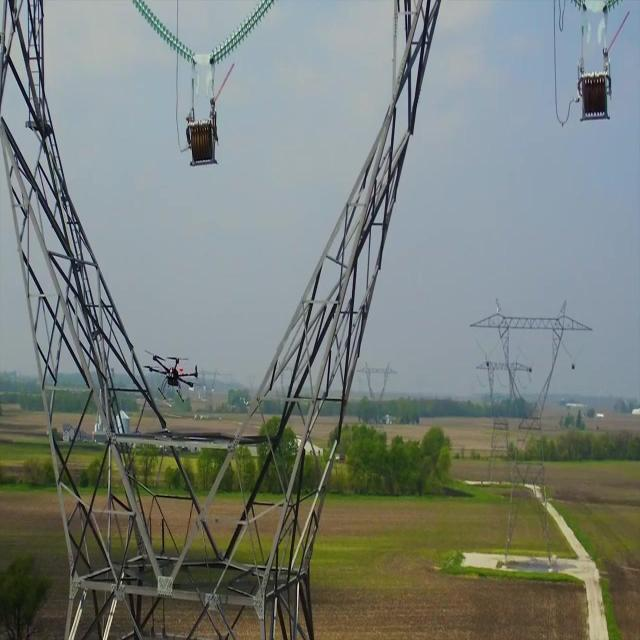drone: (140, 346, 202, 404)
